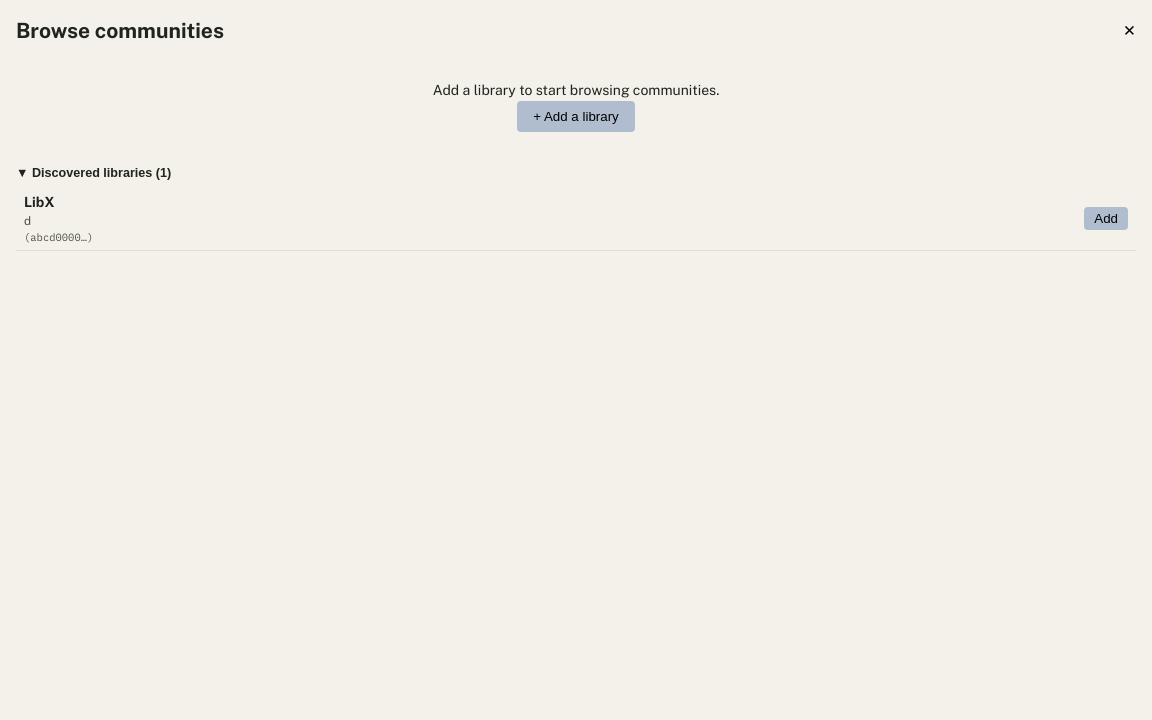
Test: LibraryDirectoryBrowser › Discovered libraries panel › click_add_invokes_service_add_with_correct_addr
Click the button with aria-label "Add LibX" at {"x": 1106, "y": 219}, box x1=1084 y1=208 x2=1128 y2=230
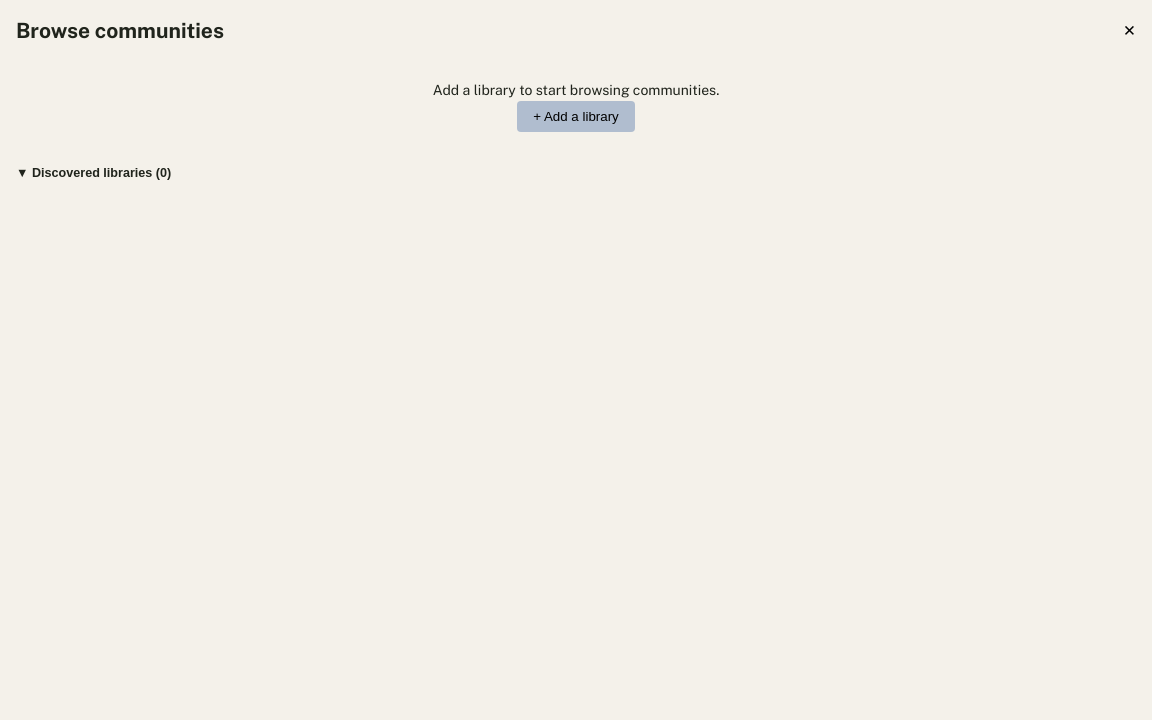
Expected: the button "▼ Discovered libraries (0)" is shown, x1=16 y1=163 x2=1136 y2=184
Expected: the text "LibX" is gone
